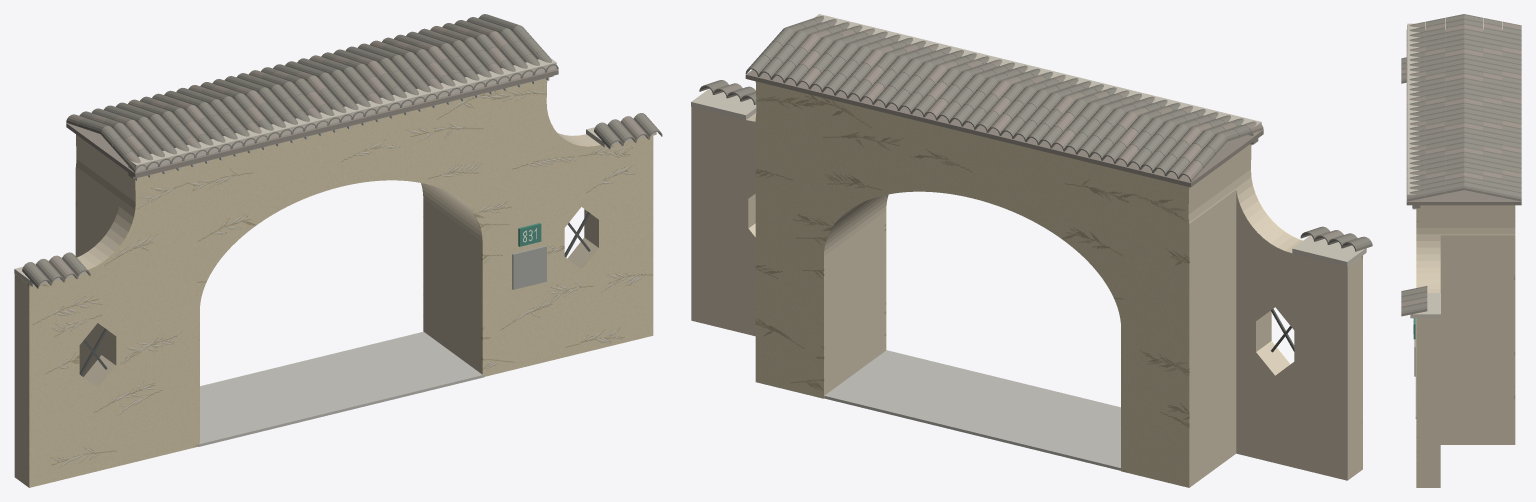
The model's file is huashan-gate-near.glb.
3 views of the same model, side by side, from view 1: azimuth 30°, elevation 25°; view 2: azimuth 150°, elevation 25°; view 3: azimuth 270°, elevation 25° (orthographic). The views are drawn at different scales.
Visible parts, largest first — view 1: 华山路831号孙氏花园住宅筒瓦拱门; view 2: 华山路831号孙氏花园住宅筒瓦拱门; view 3: 华山路831号孙氏花园住宅筒瓦拱门.
Part boxes in pixels (x1,y1,x2,y2): 华山路831号孙氏花园住宅筒瓦拱门: (14,14,662,487); 华山路831号孙氏花园住宅筒瓦拱门: (691,14,1372,487); 华山路831号孙氏花园住宅筒瓦拱门: (1401,14,1521,487).
Bounding box in the file's own units: 9.09 × 4.38 × 1.82.
12 materials, 1 textured.
